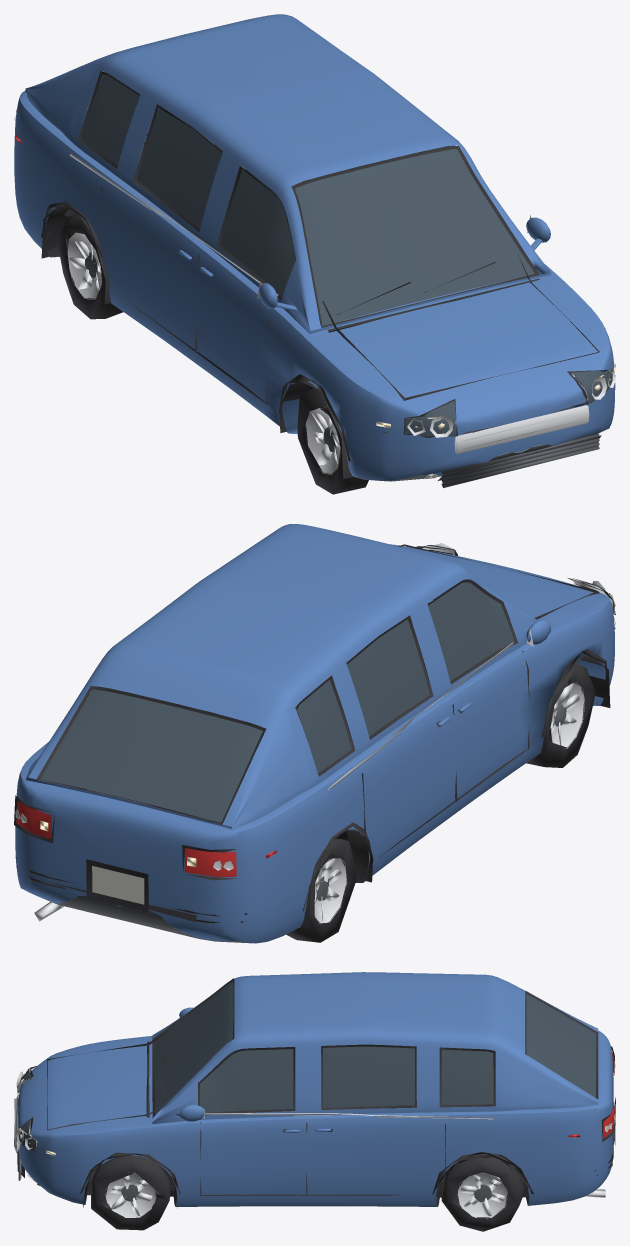
File: CarV3_Minivan_L1.fbx
3 renders of one model, top to bottom at view 1: azimuth 30°, elevation 25°; view 2: azimuth 150°, elevation 25°; view 3: azimuth 270°, elevation 25°, orthographic. The views are drawn at different scales.
Parts seen in each view (by area): view 1: CarV3_Minivan.001; view 2: CarV3_Minivan.001; view 3: CarV3_Minivan.001.
Part boxes in pixels (x1=…): CarV3_Minivan.001: x1=14, y1=14, x2=615, y2=494; CarV3_Minivan.001: x1=14, y1=524, x2=615, y2=943; CarV3_Minivan.001: x1=14, y1=972, x2=615, y2=1231.
Size of the model in its own units: 2 by 1.74 by 5.
